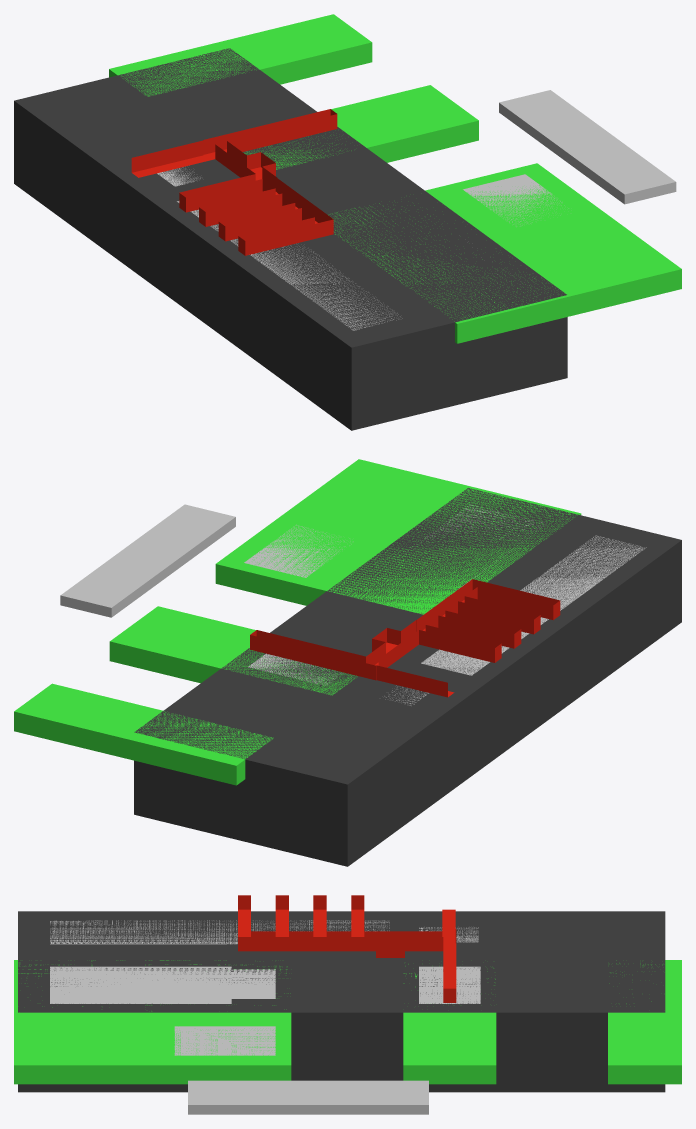
Rendered from sky130_fd_sc_hd__lpflow_lsbuf_lh_hl_isowell_tap_4.obj.
3 renders of one model, top to bottom at view 1: azimuth 30°, elevation 25°; view 2: azimuth 150°, elevation 25°; view 3: azimuth 270°, elevation 25°, orthographic. The views are drawn at different scales.
Visible parts, largest first — view 1: subs, nwell, poly, diff, tap; view 2: subs, nwell, diff, poly, tap; view 3: subs, nwell, tap, diff, poly.
Boxes of the visible parts, bbox=[...] form: subs: bbox=[14, 48, 567, 430]; nwell: bbox=[109, 14, 681, 343]; poly: bbox=[131, 109, 337, 255]; diff: bbox=[157, 90, 676, 330]; tap: bbox=[463, 174, 568, 274]; subs: bbox=[134, 488, 681, 866]; nwell: bbox=[14, 459, 581, 785]; diff: bbox=[60, 504, 646, 705]; poly: bbox=[250, 579, 560, 697]; tap: bbox=[244, 505, 542, 685]; subs: bbox=[18, 911, 665, 1092]; nwell: bbox=[14, 960, 681, 1084]; tap: bbox=[50, 966, 480, 1055]; diff: bbox=[50, 920, 478, 1114]; poly: bbox=[238, 895, 456, 1002].
Size of the model in its own units: 5.2 by 1.25 by 7.6.
